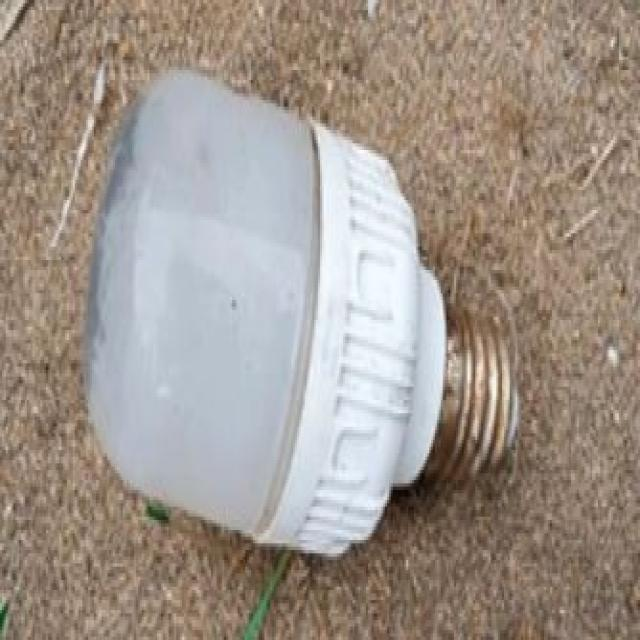electronic: (80, 60, 520, 557)
